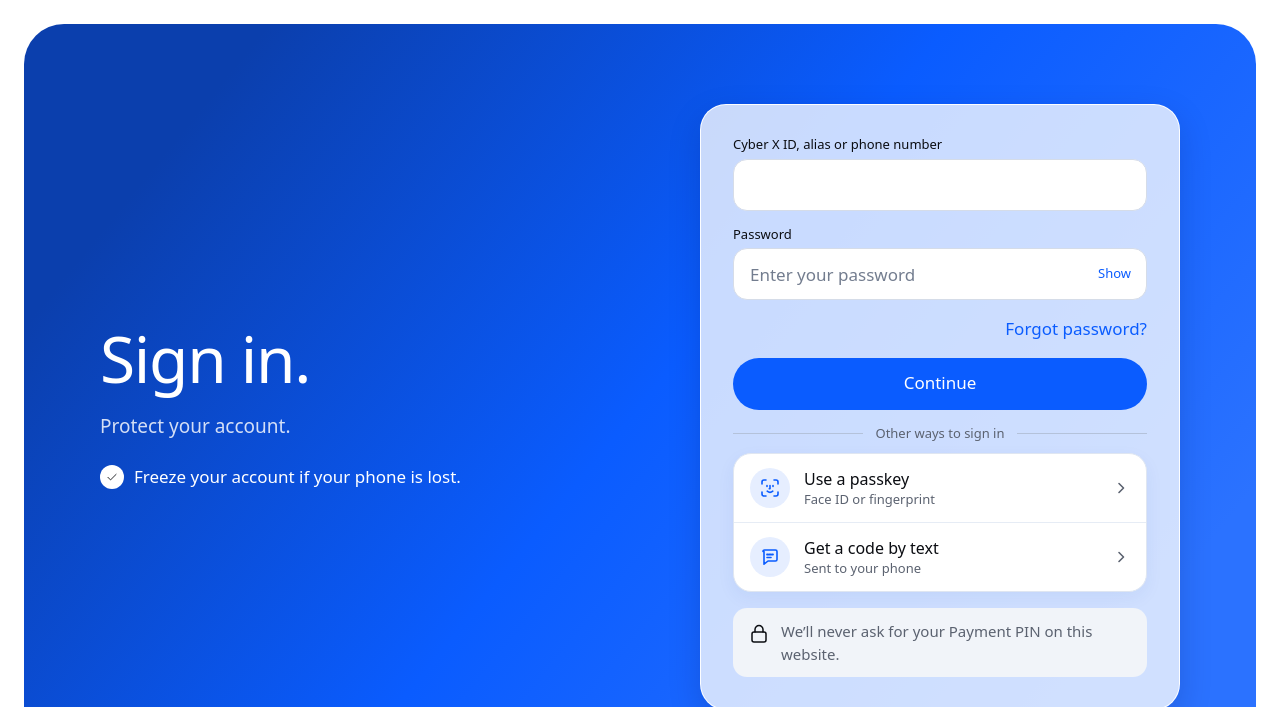
Scenario: the sign-in card (W2.1) › shows what went wrong, and lets the password be seen
This screenshot has width=1280, height=707.
Expected: the heading "Sign in." is shown, [100, 324, 310, 392]
Click the button with aria-label "Show password" at coordinates (1114, 274), box [1086, 256, 1143, 292]
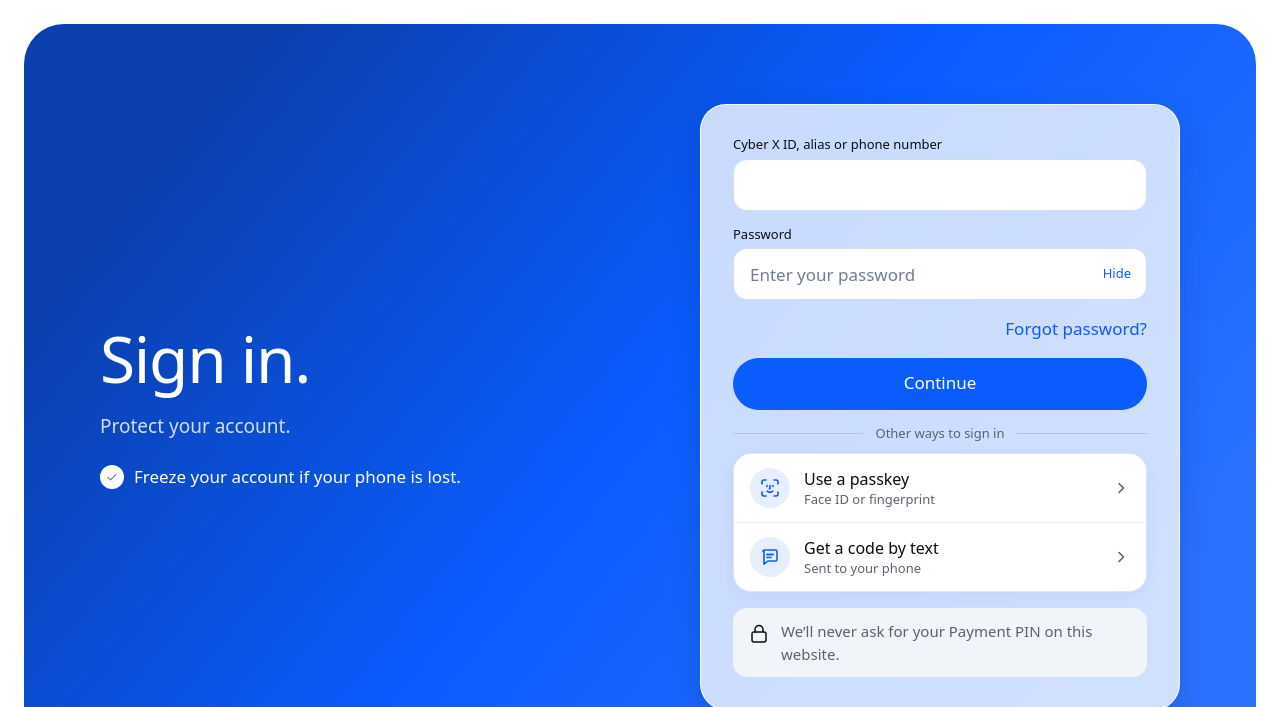
Click the button with aria-label "Hide password" at coordinates (1117, 274), box [1091, 256, 1143, 292]
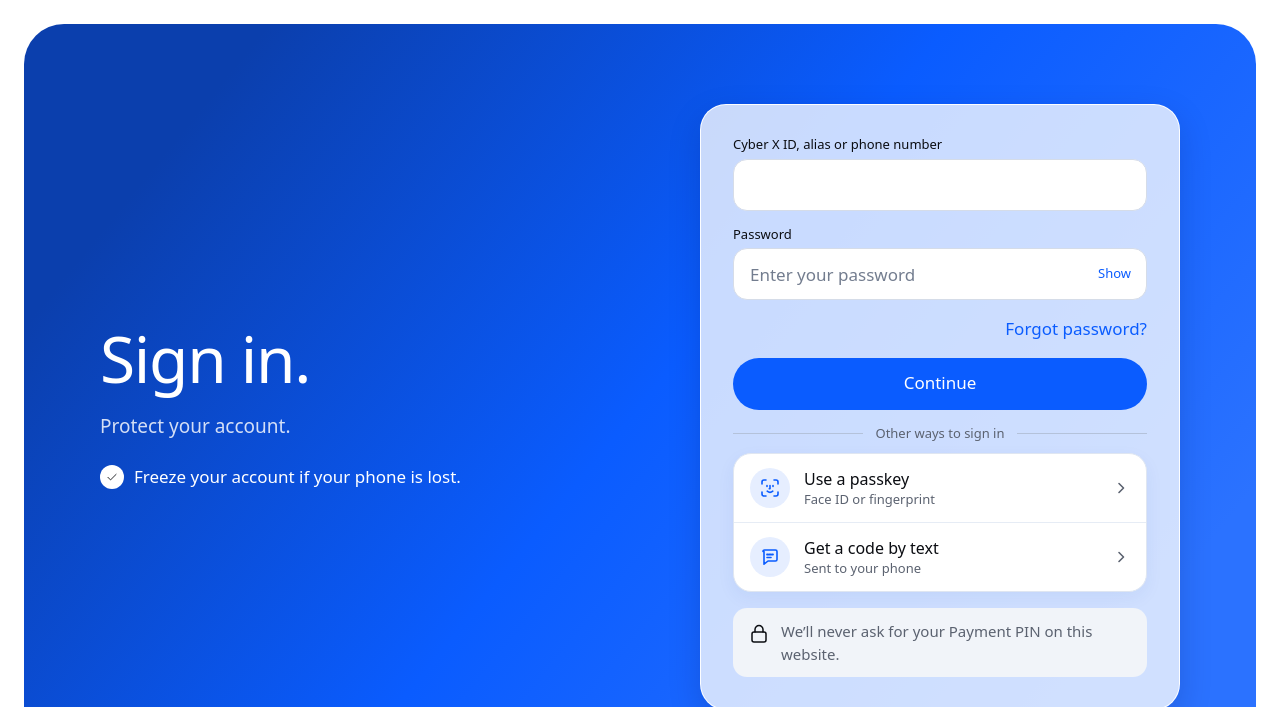
Type "@ayora" into the field labelled "Cyber X ID, alias or phone number" at coordinates (940, 185), box [733, 159, 1147, 211]
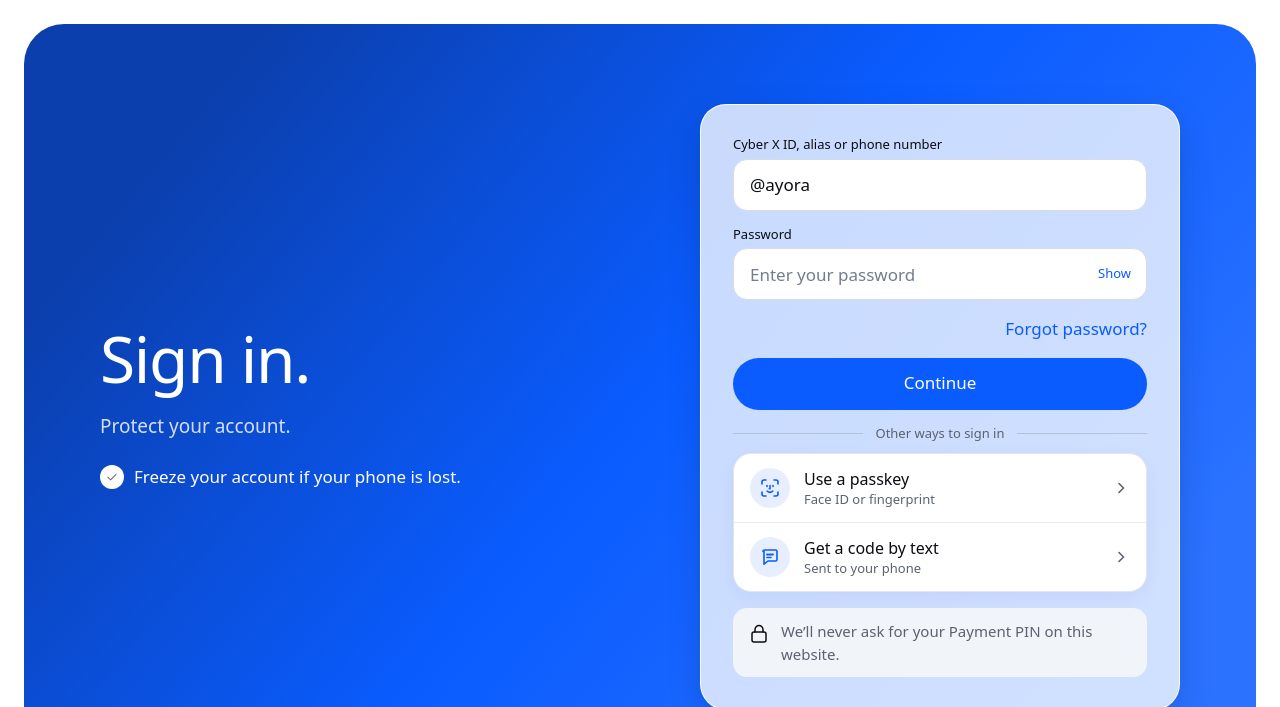
Type "nope" into the password field labelled "Password" at coordinates (940, 274), box [733, 248, 1147, 300]
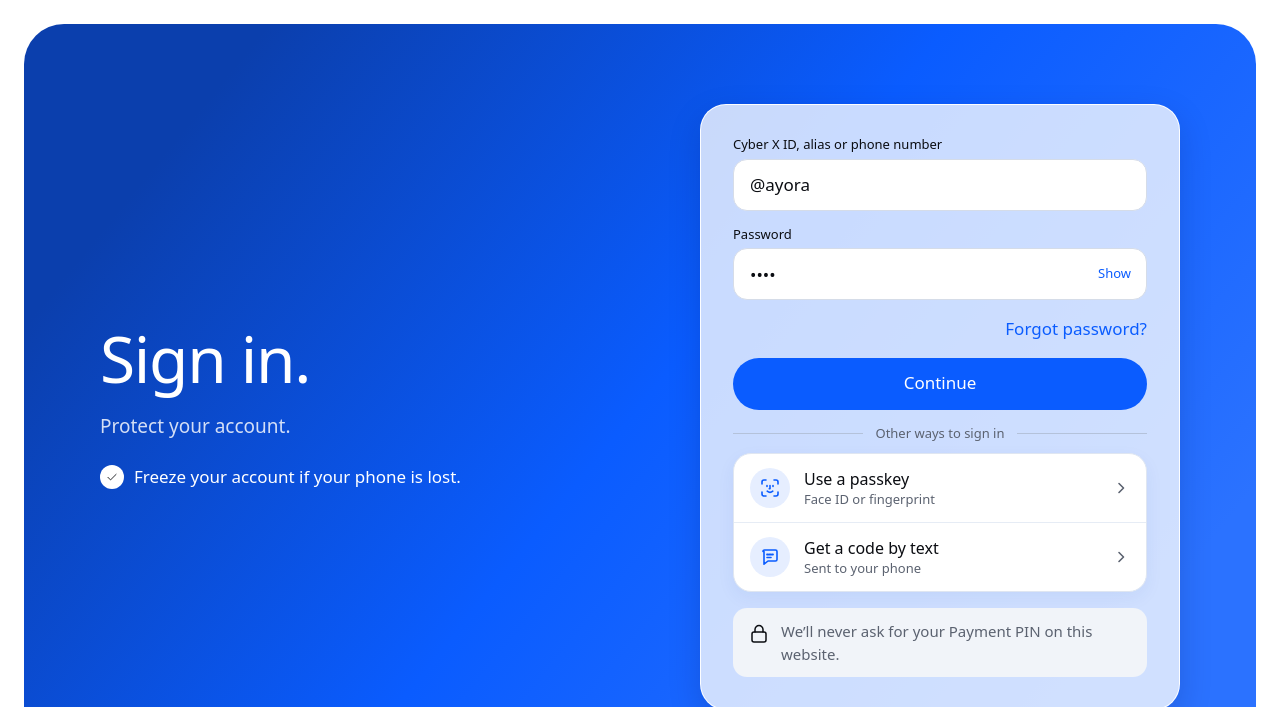
Click the button "Continue" at coordinates (940, 384), box [733, 358, 1147, 410]
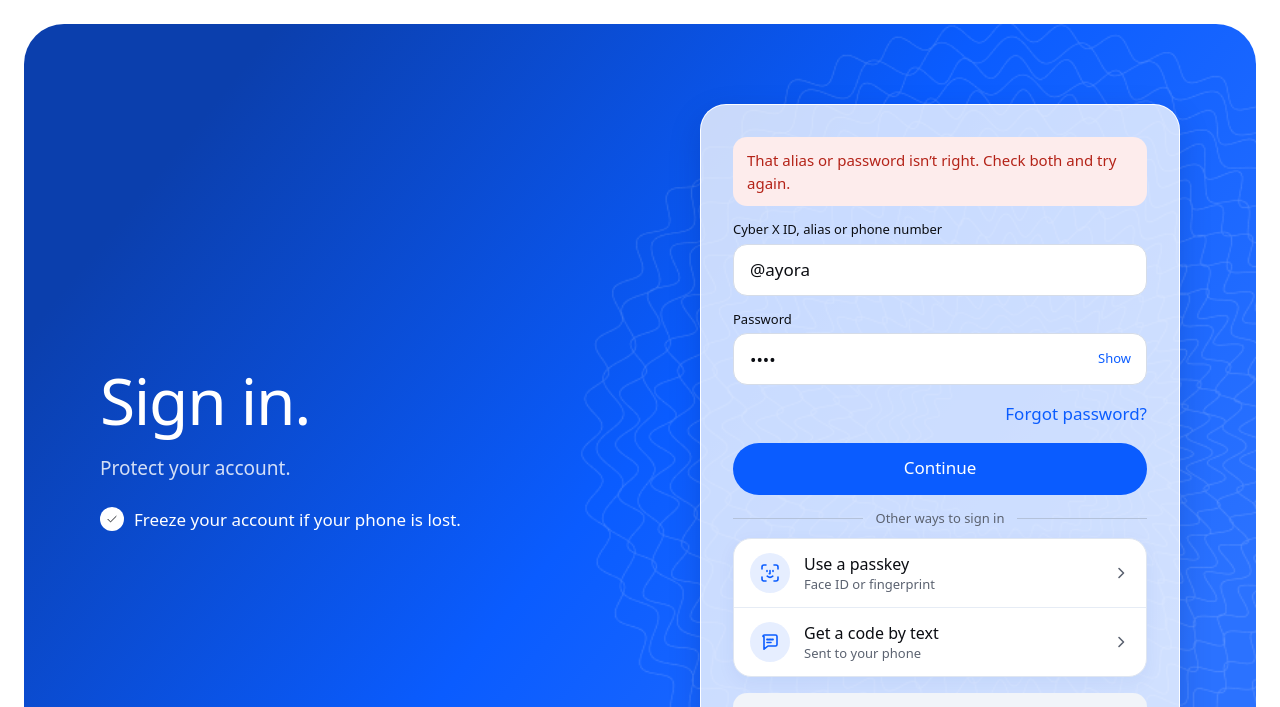
Expected: the message reads "That alias or password isn’t right. Check both and try again.", [747, 150, 1116, 192]
